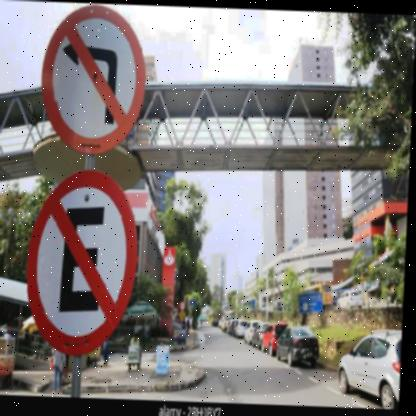No left turn: (38, 1, 152, 156)
